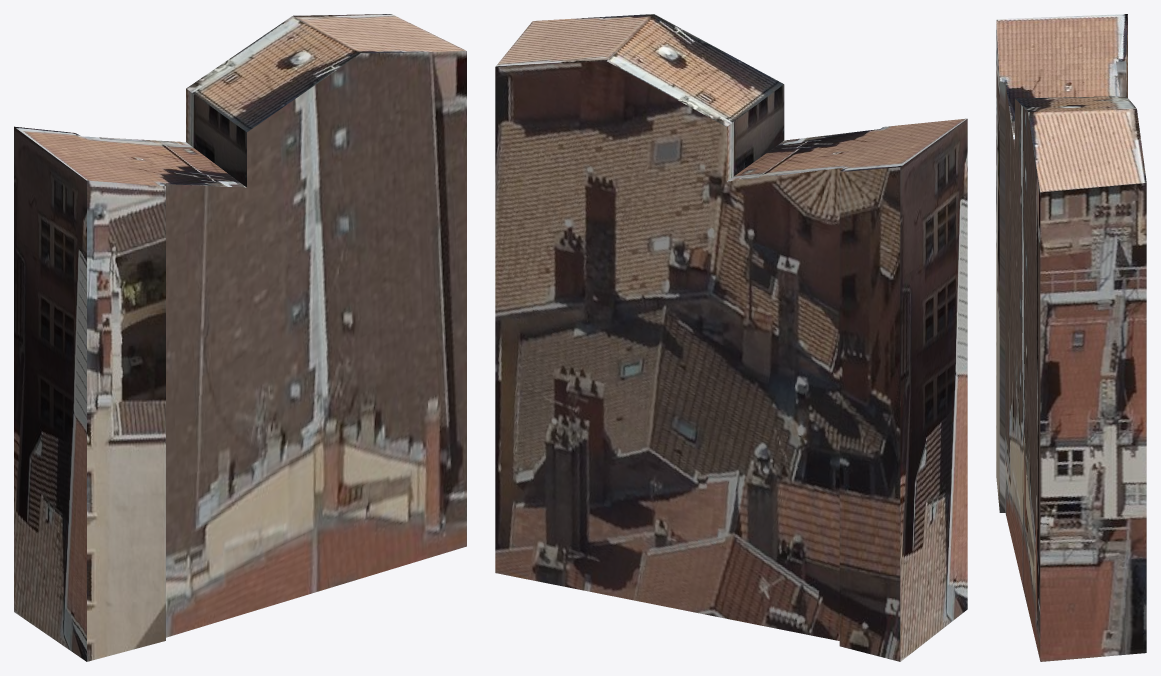
3 renders of one model, left to right at view 1: azimuth 30°, elevation 25°; view 2: azimuth 150°, elevation 25°; view 3: azimuth 270°, elevation 25°, orthographic. The views are drawn at different scales.
Parts seen in each view (by area): view 1: Z_UP; view 2: Z_UP; view 3: Z_UP.
Boxes of the visible parts, bbox=[...] form: Z_UP: bbox=[14, 14, 466, 661]; Z_UP: bbox=[495, 14, 967, 661]; Z_UP: bbox=[996, 14, 1146, 661].
Bounding box in the file's own units: 19.33 × 23.85 × 6.54.
Materials: 2 (1 with a texture image).
